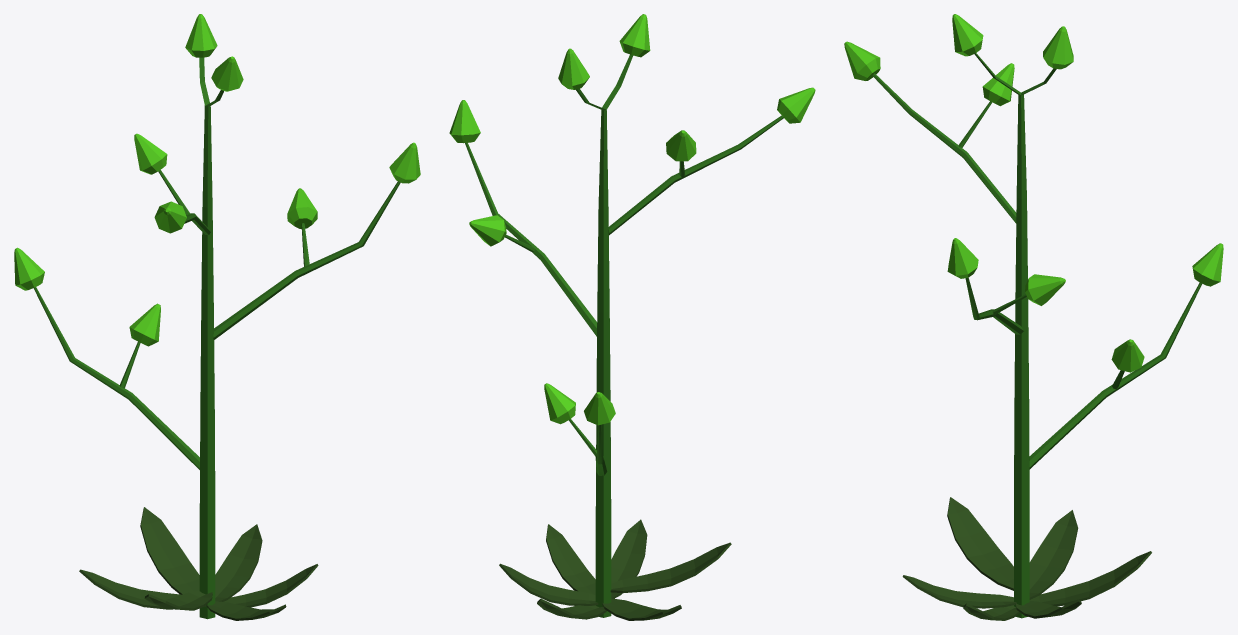
Rendered from Habichtskraut_1.fbx.
3 renders of one model, left to right at view 1: azimuth 30°, elevation 25°; view 2: azimuth 150°, elevation 25°; view 3: azimuth 270°, elevation 25°, orthographic. The views are drawn at different scales.
Visible parts, largest first — view 1: Habichtskraut_1; view 2: Habichtskraut_1; view 3: Habichtskraut_1.
Boxes of the visible parts, bbox=[...] form: Habichtskraut_1: bbox=[14, 14, 420, 620]; Habichtskraut_1: bbox=[449, 14, 815, 620]; Habichtskraut_1: bbox=[844, 14, 1223, 620].
Size of the model in its own units: 80.76 by 145 by 83.85.
